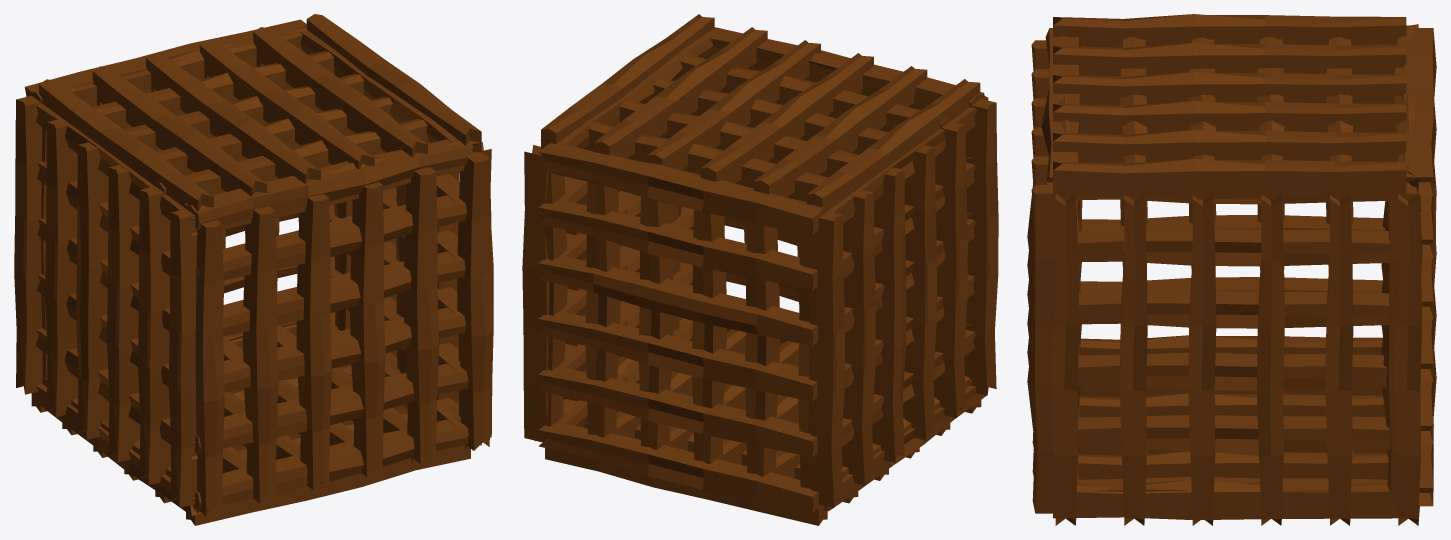
Rendered from crateToDestroy.fbx.
3 views of the same model, side by side, from view 1: azimuth 30°, elevation 25°; view 2: azimuth 150°, elevation 25°; view 3: azimuth 270°, elevation 25° (orthographic). The views are drawn at different scales.
Parts seen in each view (by area): view 1: main.002, main.003, main, main.005, main.001, main.004; view 2: main.004, main.003, main, main.005, main.001, main.002; view 3: main.005, main, main.001, main.002, main.004, main.003.
Part boxes in pixels (x1,y1,x2,y2): main.002: (184,139,492,516); main.003: (14,95,214,515); main: (31,14,481,229); main.005: (300,30,493,437); main.001: (31,312,481,525); main.004: (25,19,306,378); main.004: (534,143,824,512); main.003: (809,99,998,511); main: (541,14,980,236); main.005: (522,28,720,442); main.001: (545,317,981,525); main.002: (710,27,988,387); main.005: (1051,182,1421,519); main: (1053,14,1418,199); main.001: (1053,335,1419,525); main.002: (1027,28,1082,513); main.004: (1381,28,1436,513); main.003: (1080,24,1418,355).
Bounding box in the file's own units: 203 × 204 × 204.
